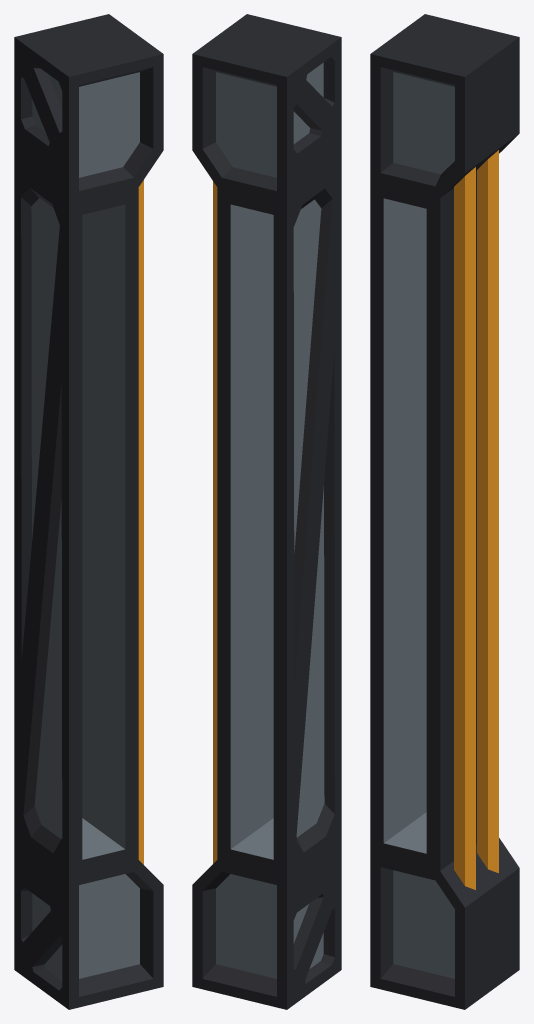
File: SM_Pillar_02.glb
3 views of the same model, side by side, from view 1: azimuth 30°, elevation 25°; view 2: azimuth 150°, elevation 25°; view 3: azimuth 330°, elevation 25° (orthographic).
Visible parts, largest first — view 1: SM_Pillar_02; view 2: SM_Pillar_02; view 3: SM_Pillar_02.
Boxes of the visible parts, x1=… form: SM_Pillar_02: x1=14, y1=14, x2=163, y2=1009; SM_Pillar_02: x1=192, y1=14, x2=341, y2=1009; SM_Pillar_02: x1=370, y1=14, x2=519, y2=1009.
Size of the model in its own units: 0.4246 by 4 by 0.4246.
1 material, 1 textured.
